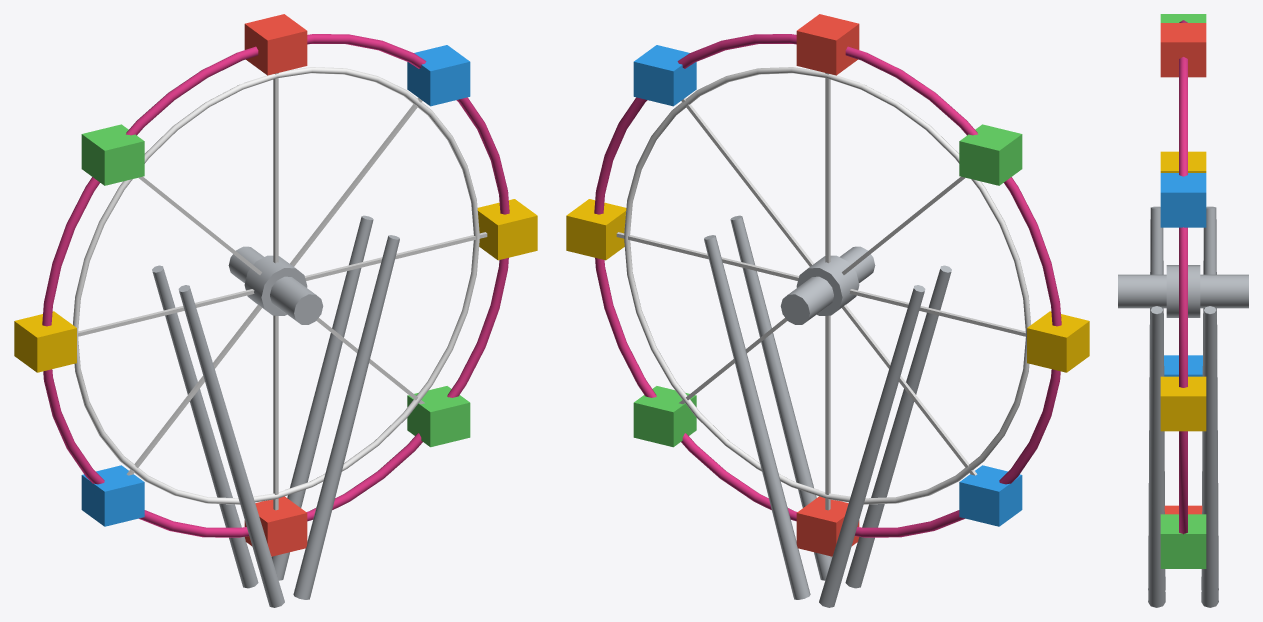
Rendered from dufan_bianglala.glb.
3 renders of one model, left to right at view 1: azimuth 30°, elevation 25°; view 2: azimuth 150°, elevation 25°; view 3: azimuth 270°, elevation 25°, orthographic.
Visible parts, largest first — view 1: wheel, object 4, object 3, object 2, object 1, object 5; view 2: wheel, object 2, object 1, object 4, object 3, object 5; view 3: wheel, object 2, object 4, object 5, object 1, object 3.
Part boxes in pixels (x1,y1,x2,y2): wheel: (14,14,537,556); object 4: (293,235,399,599); object 3: (178,285,284,607); object 2: (271,215,373,580); object 1: (152,265,258,588); object 5: (228,246,323,324); wheel: (566,14,1089,556); object 2: (704,235,810,599); object 1: (819,285,925,607); object 4: (730,215,832,580); object 3: (845,265,951,588); object 5: (780,246,875,324); wheel: (1160,14,1206,568); object 2: (1201,306,1218,607); object 4: (1148,306,1165,607); object 5: (1118,274,1248,308); object 1: (1201,206,1218,589); object 3: (1148,206,1165,589).
Size of the model in its own units: 23.9 by 25.79 by 5.4.
